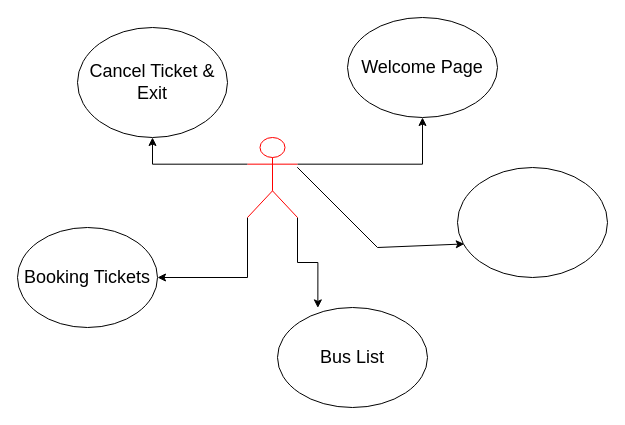
The diagram is 625 pixels wide and 425 high, and some of its shapes have lost their labels. Here are the shapes that lost their labels. From the top down, the box of each, then its label:
(246, 136, 298, 218): USER
(456, 166, 608, 278): User Choice
